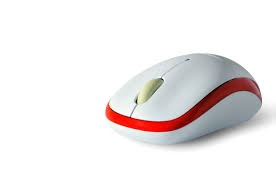mouse: (97, 21, 267, 153)
